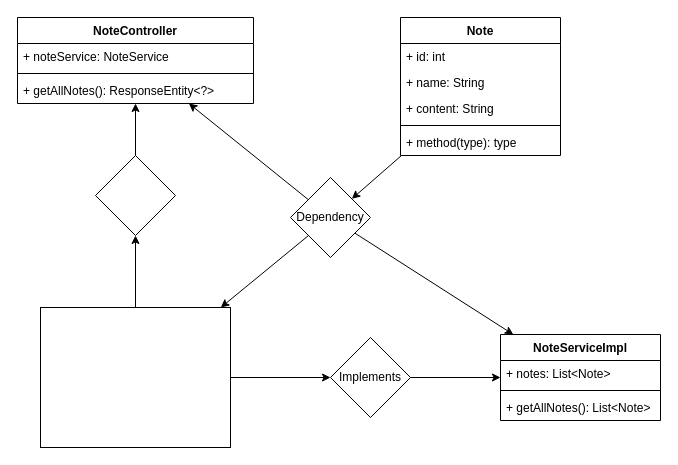
The diagram is 678 pixels wide and 465 high, and some of its shapes have lost their labels. Each missing label, with the centre of its shape:
"<<Interface>> NoteService + getAllNotes(): List<Note>" belongs at point 135,377.
"Autowired" belongs at point 135,195.
